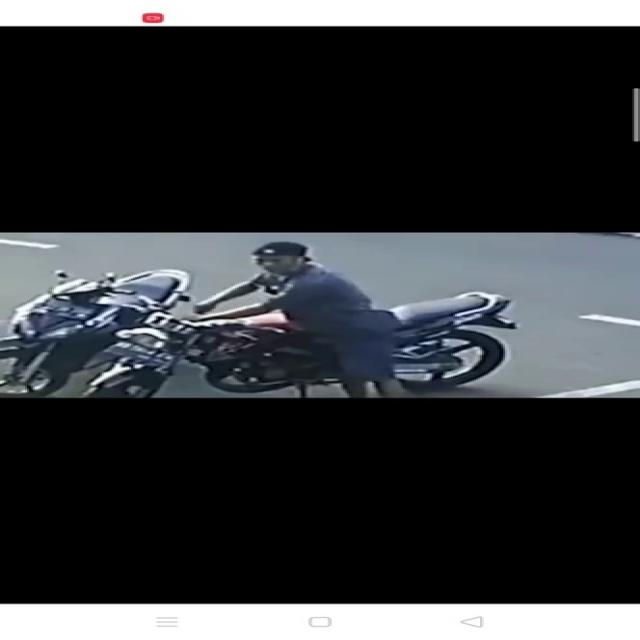pencurian: (100, 243, 399, 398)
